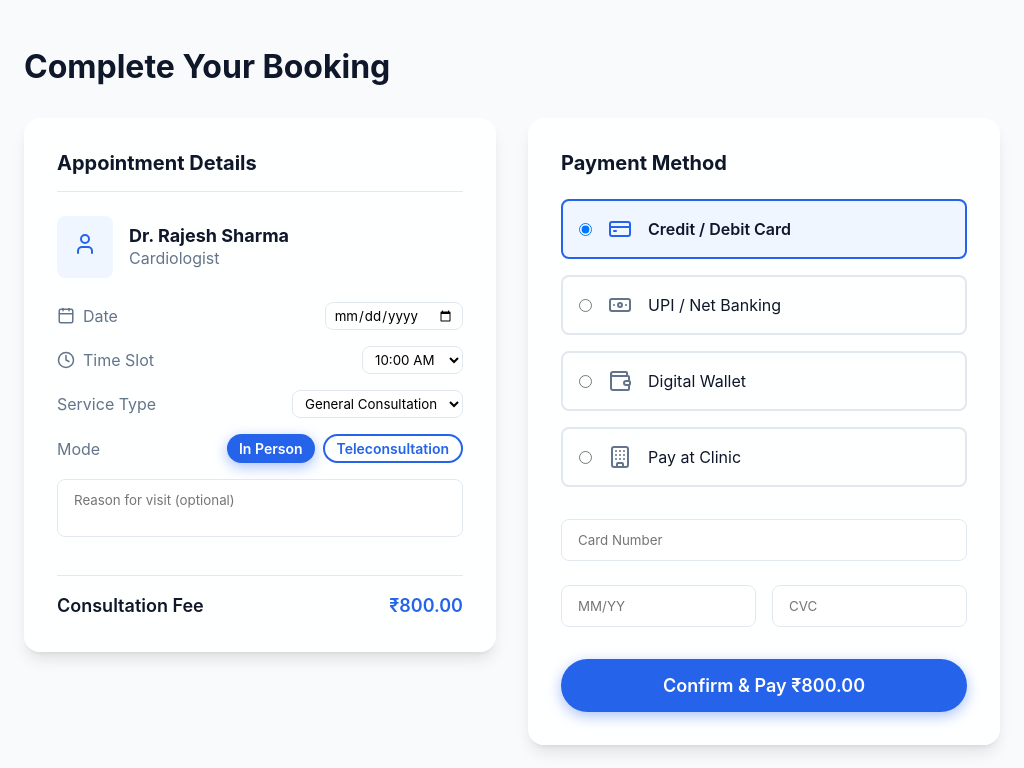
it: Checkout appointment booking form › submits booking details and shows success state
Type "2026-05-20" into the date field at (394, 316), box [325,302,463,330]
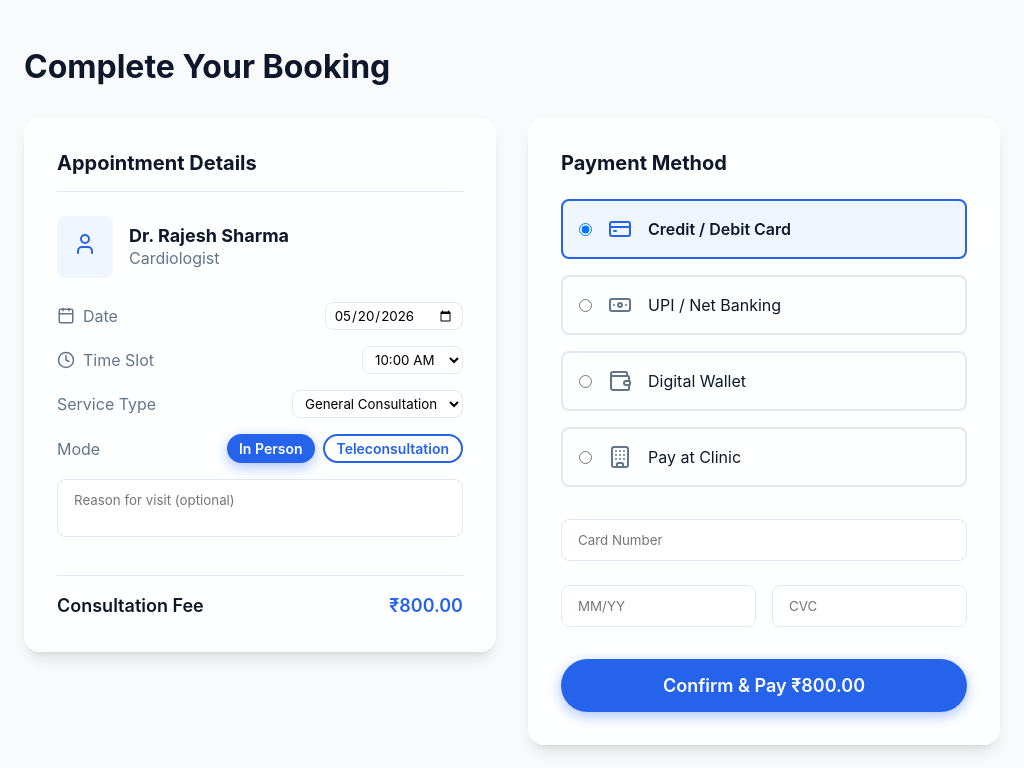
Type "Chest discomfort" into the text box with placeholder "Reason for visit (optional)" at (260, 508), box [57,479,463,537]
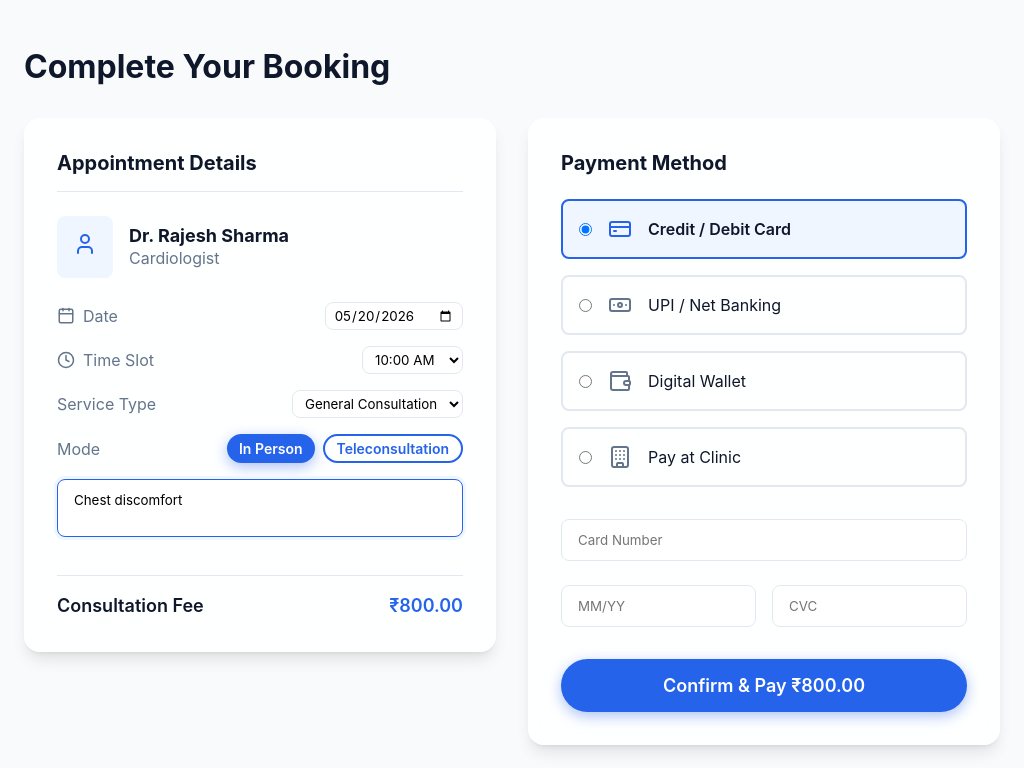
Click the button "Confirm & Pay ₹800.00" at (764, 686), box [561,659,967,712]
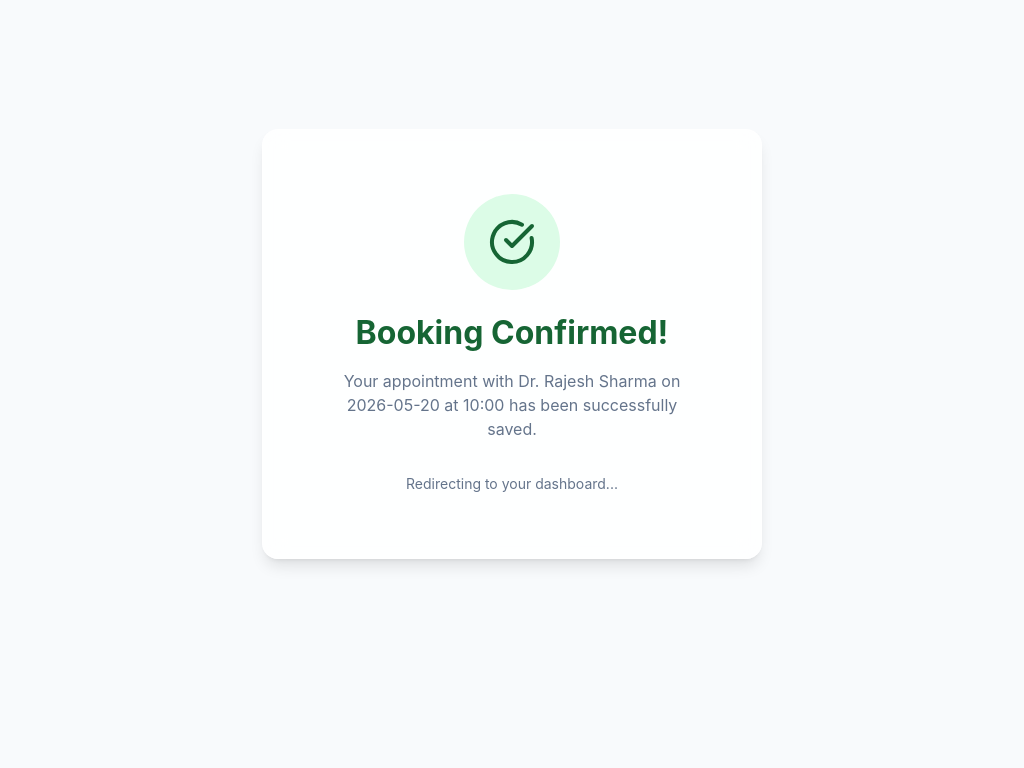
Now the heading "Booking Confirmed!" is shown, box [356,313,668,352]
